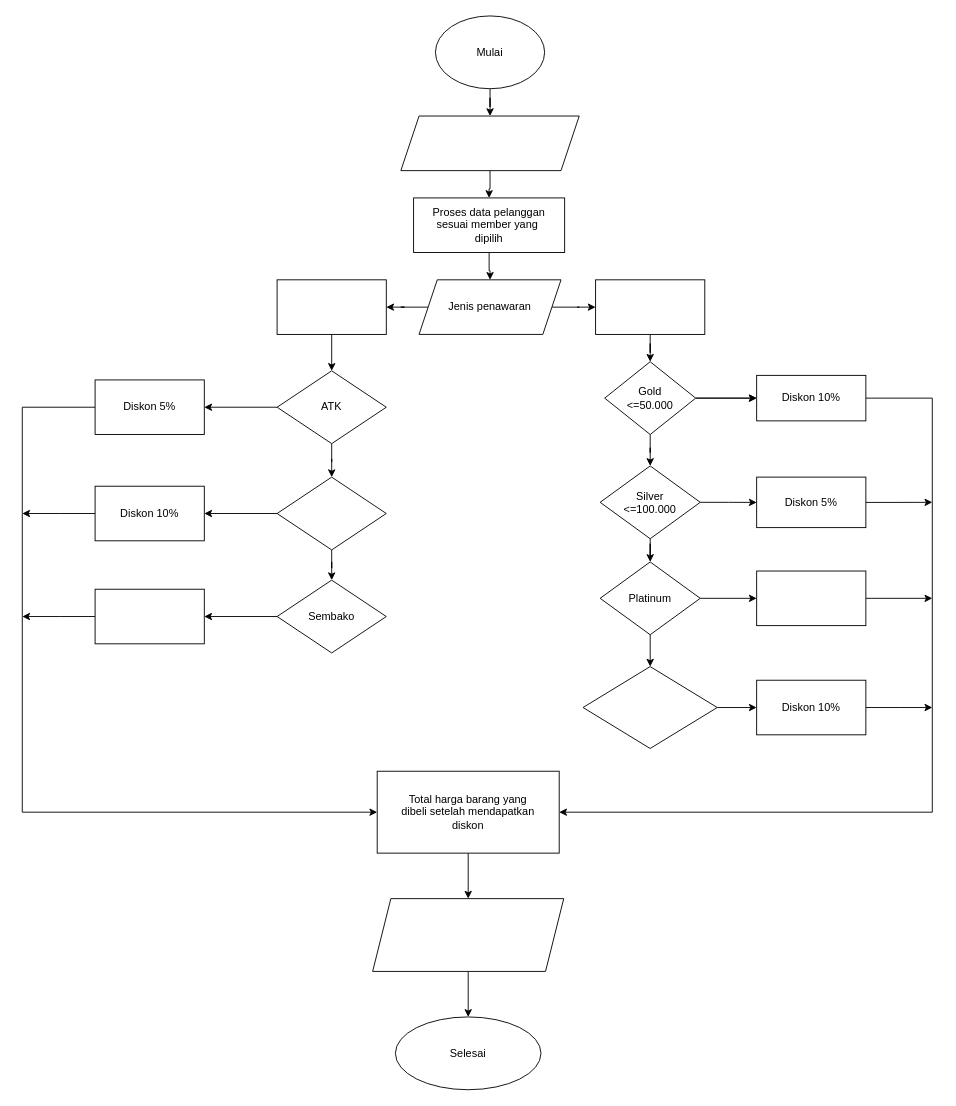
Some shapes in this 956 by 1106 pixel diagram are drawn without their labels. Here are the shapes that lost their labels. From the top down, the centre of each, then its label:
(x=489, y=143): Pelanggan datang dan memilih member
(x=331, y=306): Item yang disediakan
(x=650, y=306): Member
(x=331, y=513): Elektronik
(x=149, y=616): Diskon 20%
(x=811, y=598): Diskon15%
(x=649, y=707): Diskon melebihi batas member pembelian
(x=468, y=934): mem print serta mengambil Struk bayar
